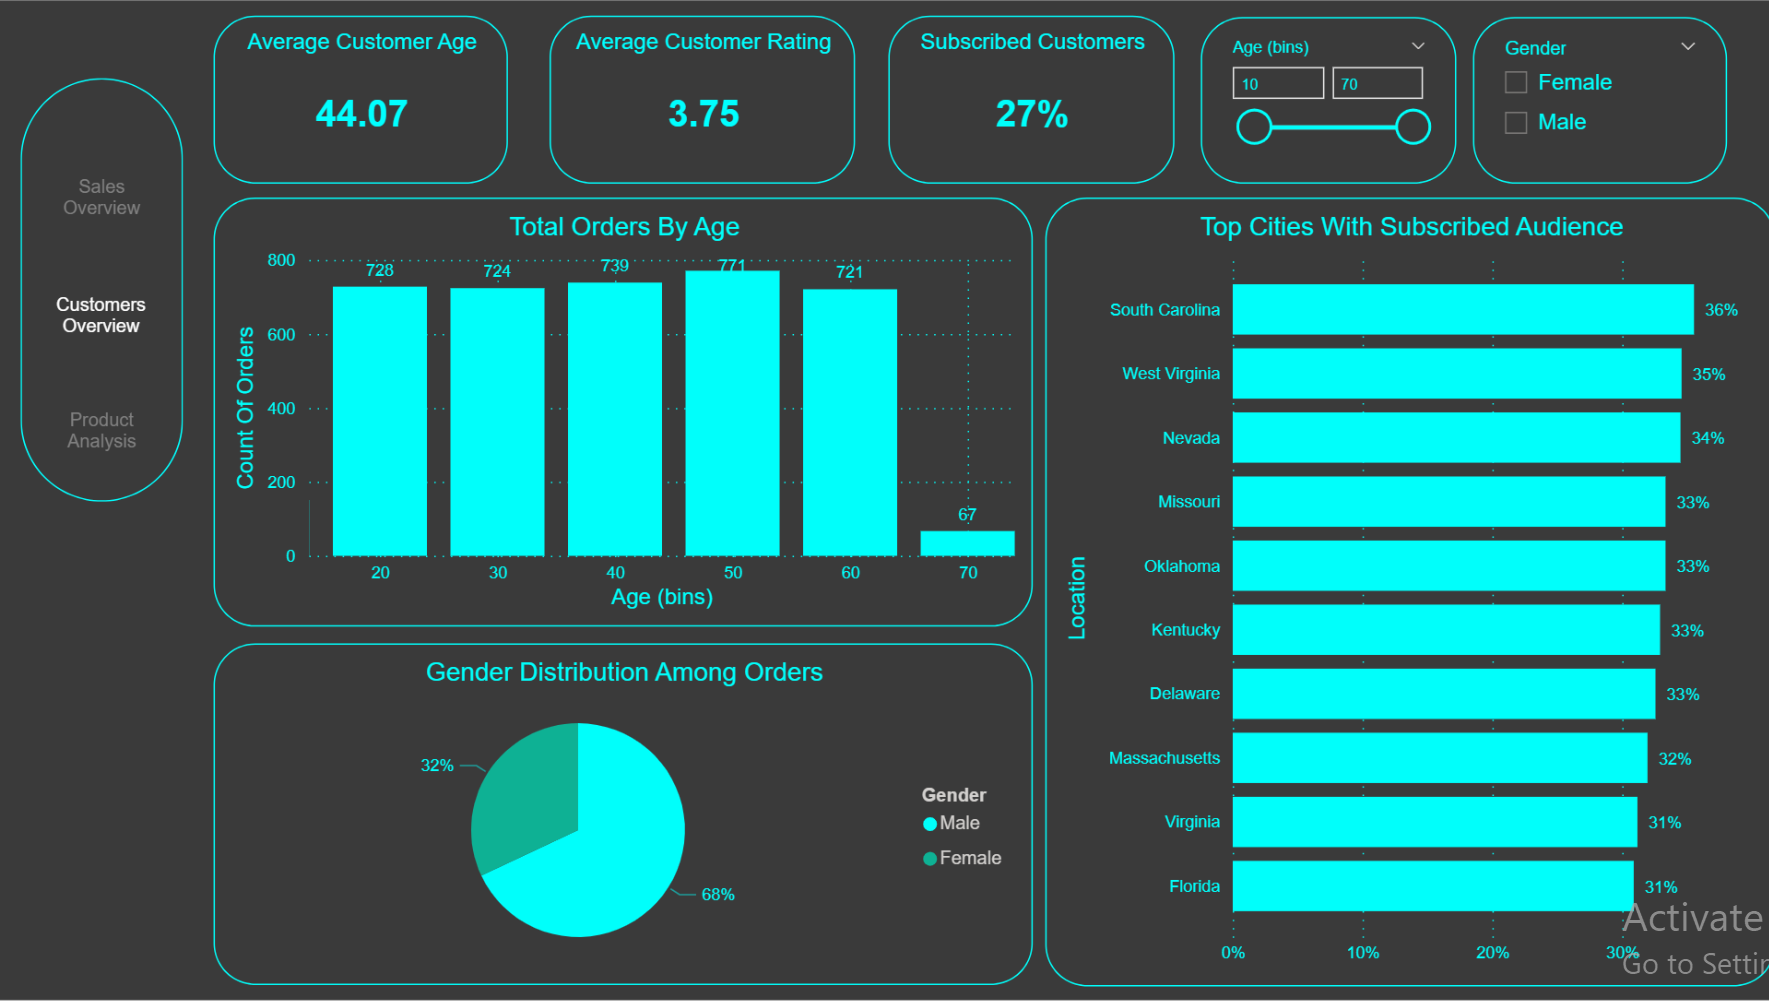

Layout of this report page (visuals, bound fields, positions):
{"tool":"powerbi","page":{"name":"Customers Overview","canvas":[1280,720],"ordinal":1},"visuals":[{"type":"shape","box":[16,55.9,117.1,304.8],"z":0},{"type":"actionButton","box":[24,106.8,101.4,70.7],"z":1000},{"type":"actionButton","box":[24,191.1,100.1,70.7],"z":2000},{"type":"card","title":"Average Customer Age","fields":{"Values":["Avg(shopping_trends_updated.Age)"]},"box":[154.5,10.6,212.1,121.2],"z":3000},{"type":"card","title":"Average Customer Rating","fields":{"Values":["Avg(shopping_trends_updated.Review Rating)"]},"box":[396.9,10.6,219.6,121.2],"z":4000},{"type":"card","title":"Subscribed Customers","fields":{"Values":["shopping_trends_updated.Total Subscribed Percentage"]},"box":[640.8,10.6,206,121.2],"z":5000},{"type":"columnChart","title":"Total Orders By Age","fields":{"Category":["shopping_trends_updated.Age (bins)"],"Y":["CountNonNull(shopping_trends_updated.Customer ID)"]},"box":[154.5,142.4,590.8,309],"z":6000},{"type":"pieChart","title":"Gender Distribution Among Orders","fields":{"Category":["shopping_trends_updated.Gender"],"Y":["CountNonNull(shopping_trends_updated.Customer ID)"]},"box":[155,463.2,589.9,245.8],"z":7000},{"type":"clusteredBarChart","title":"Top Cities With Subscribed Audience","fields":{"Category":["shopping_trends_updated.Location"],"Y":["shopping_trends_updated.Total Subscribed Percentage"]},"box":[754.4,142.4,525.6,568],"z":8000},{"type":"slicer","fields":{"Values":["shopping_trends_updated.Age (bins)"]},"box":[866.5,12.1,183.3,119.7],"z":9000},{"type":"slicer","fields":{"Values":["shopping_trends_updated.Gender"]},"box":[1061.9,12.1,183.3,119.7],"z":10000},{"type":"actionButton","box":[24,275.5,101.1,70.5],"z":11000}]}

Visuals, with their boxes in screenshot pixels (x1, y1, x2, y2), scaled from the page's 1280x720 canvas onto the 1769x1002 screenshot:
shape: [x1=22, y1=78, x2=184, y2=502]
actionButton: [x1=33, y1=149, x2=173, y2=247]
actionButton: [x1=33, y1=266, x2=172, y2=364]
"Average Customer Age" card: [x1=214, y1=15, x2=507, y2=183]
"Average Customer Rating" card: [x1=549, y1=15, x2=852, y2=183]
"Subscribed Customers" card: [x1=886, y1=15, x2=1170, y2=183]
"Total Orders By Age" columnChart: [x1=214, y1=198, x2=1030, y2=628]
"Gender Distribution Among Orders" pieChart: [x1=214, y1=645, x2=1029, y2=987]
"Top Cities With Subscribed Audience" clusteredBarChart: [x1=1043, y1=198, x2=1768, y2=989]
slicer - shopping_trends_updated.Age (bins): [x1=1198, y1=17, x2=1451, y2=183]
slicer - shopping_trends_updated.Gender: [x1=1468, y1=17, x2=1721, y2=183]
actionButton: [x1=33, y1=383, x2=173, y2=482]
